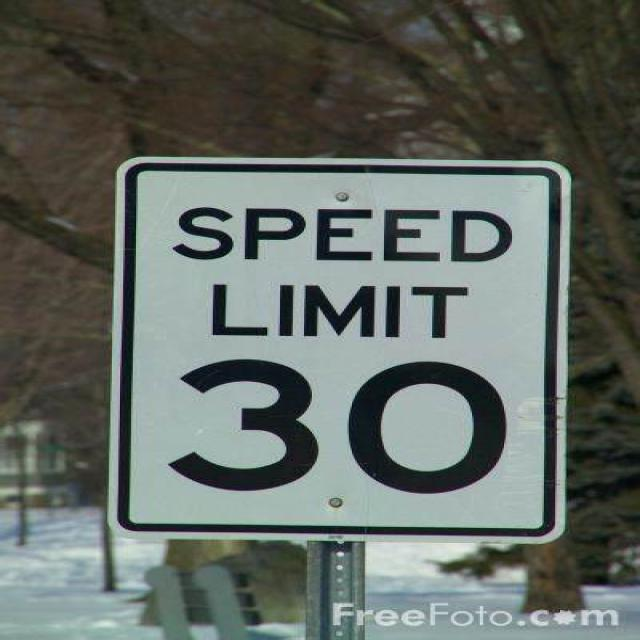speedLimit35: (109, 152, 568, 541)
